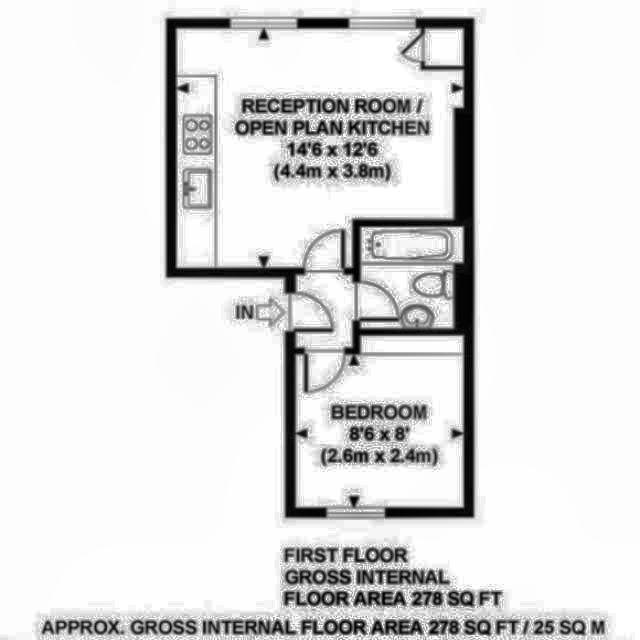room: (177, 26, 464, 268), (296, 334, 465, 506), (361, 227, 465, 329), (296, 274, 353, 347)
